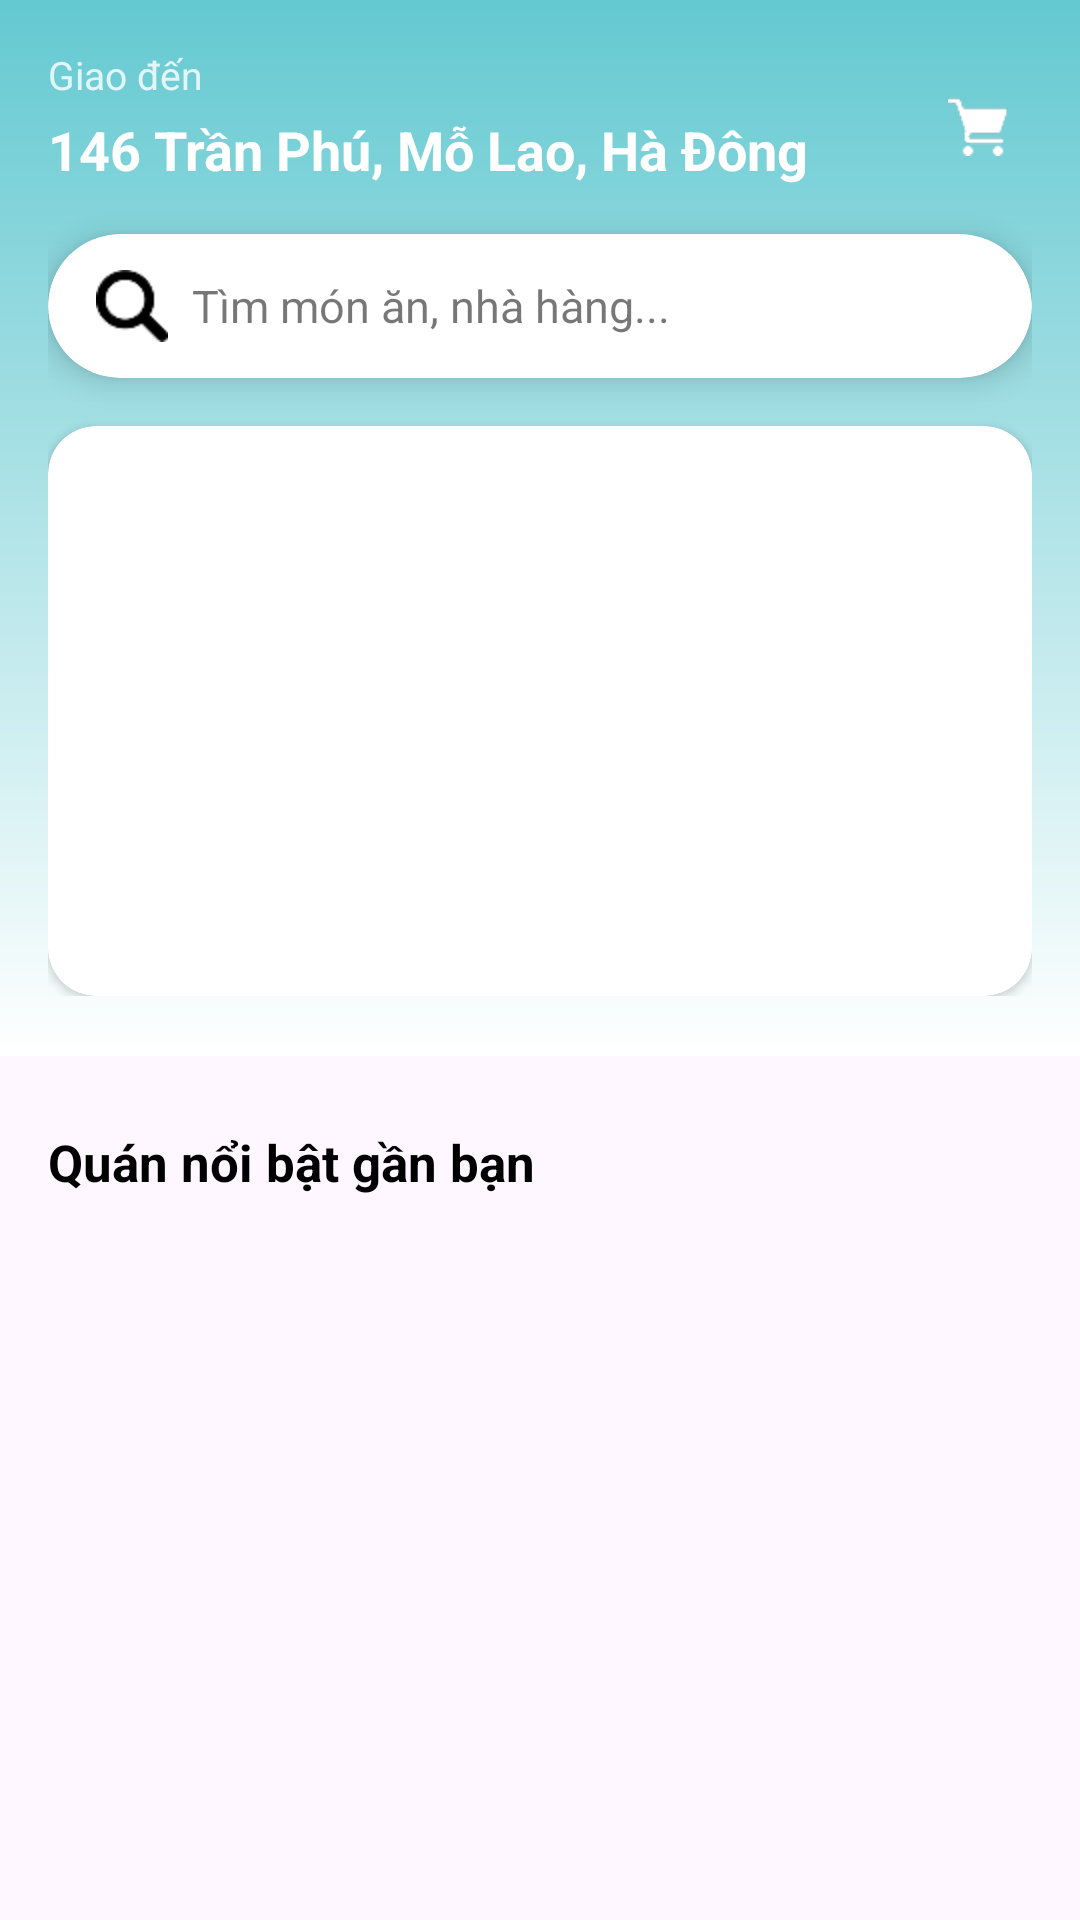

Named icons in this screenshot (1080×1920) and their bounding boxes, Rect(x1, y1, x2, y2):
Giỏ hàng: Rect(948, 98, 1007, 156)
Search icon: Rect(96, 270, 168, 342)
